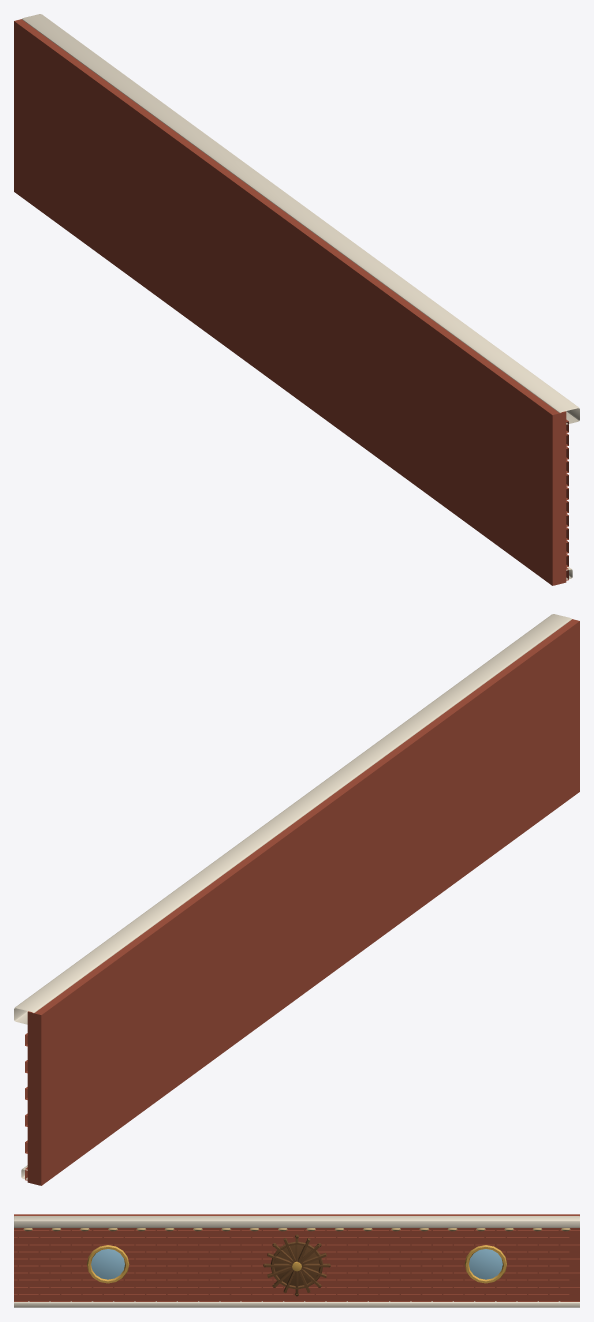
File: WallHarbour.fbx
The picture shows the model from 3 angles, top to bottom: view 1: azimuth 30°, elevation 25°; view 2: azimuth 150°, elevation 25°; view 3: azimuth 270°, elevation 25°; orthographic projection. The views are drawn at different scales.
Visible parts, largest first — view 1: WallHarbour; view 2: WallHarbour; view 3: WallHarbour.
Boxes of the visible parts, x1,y1,x2,y2 form: WallHarbour: (14, 14, 579, 585); WallHarbour: (14, 614, 579, 1185); WallHarbour: (14, 1214, 579, 1307).
Bounding box in the file's own units: 260 × 1410 × 8000.
